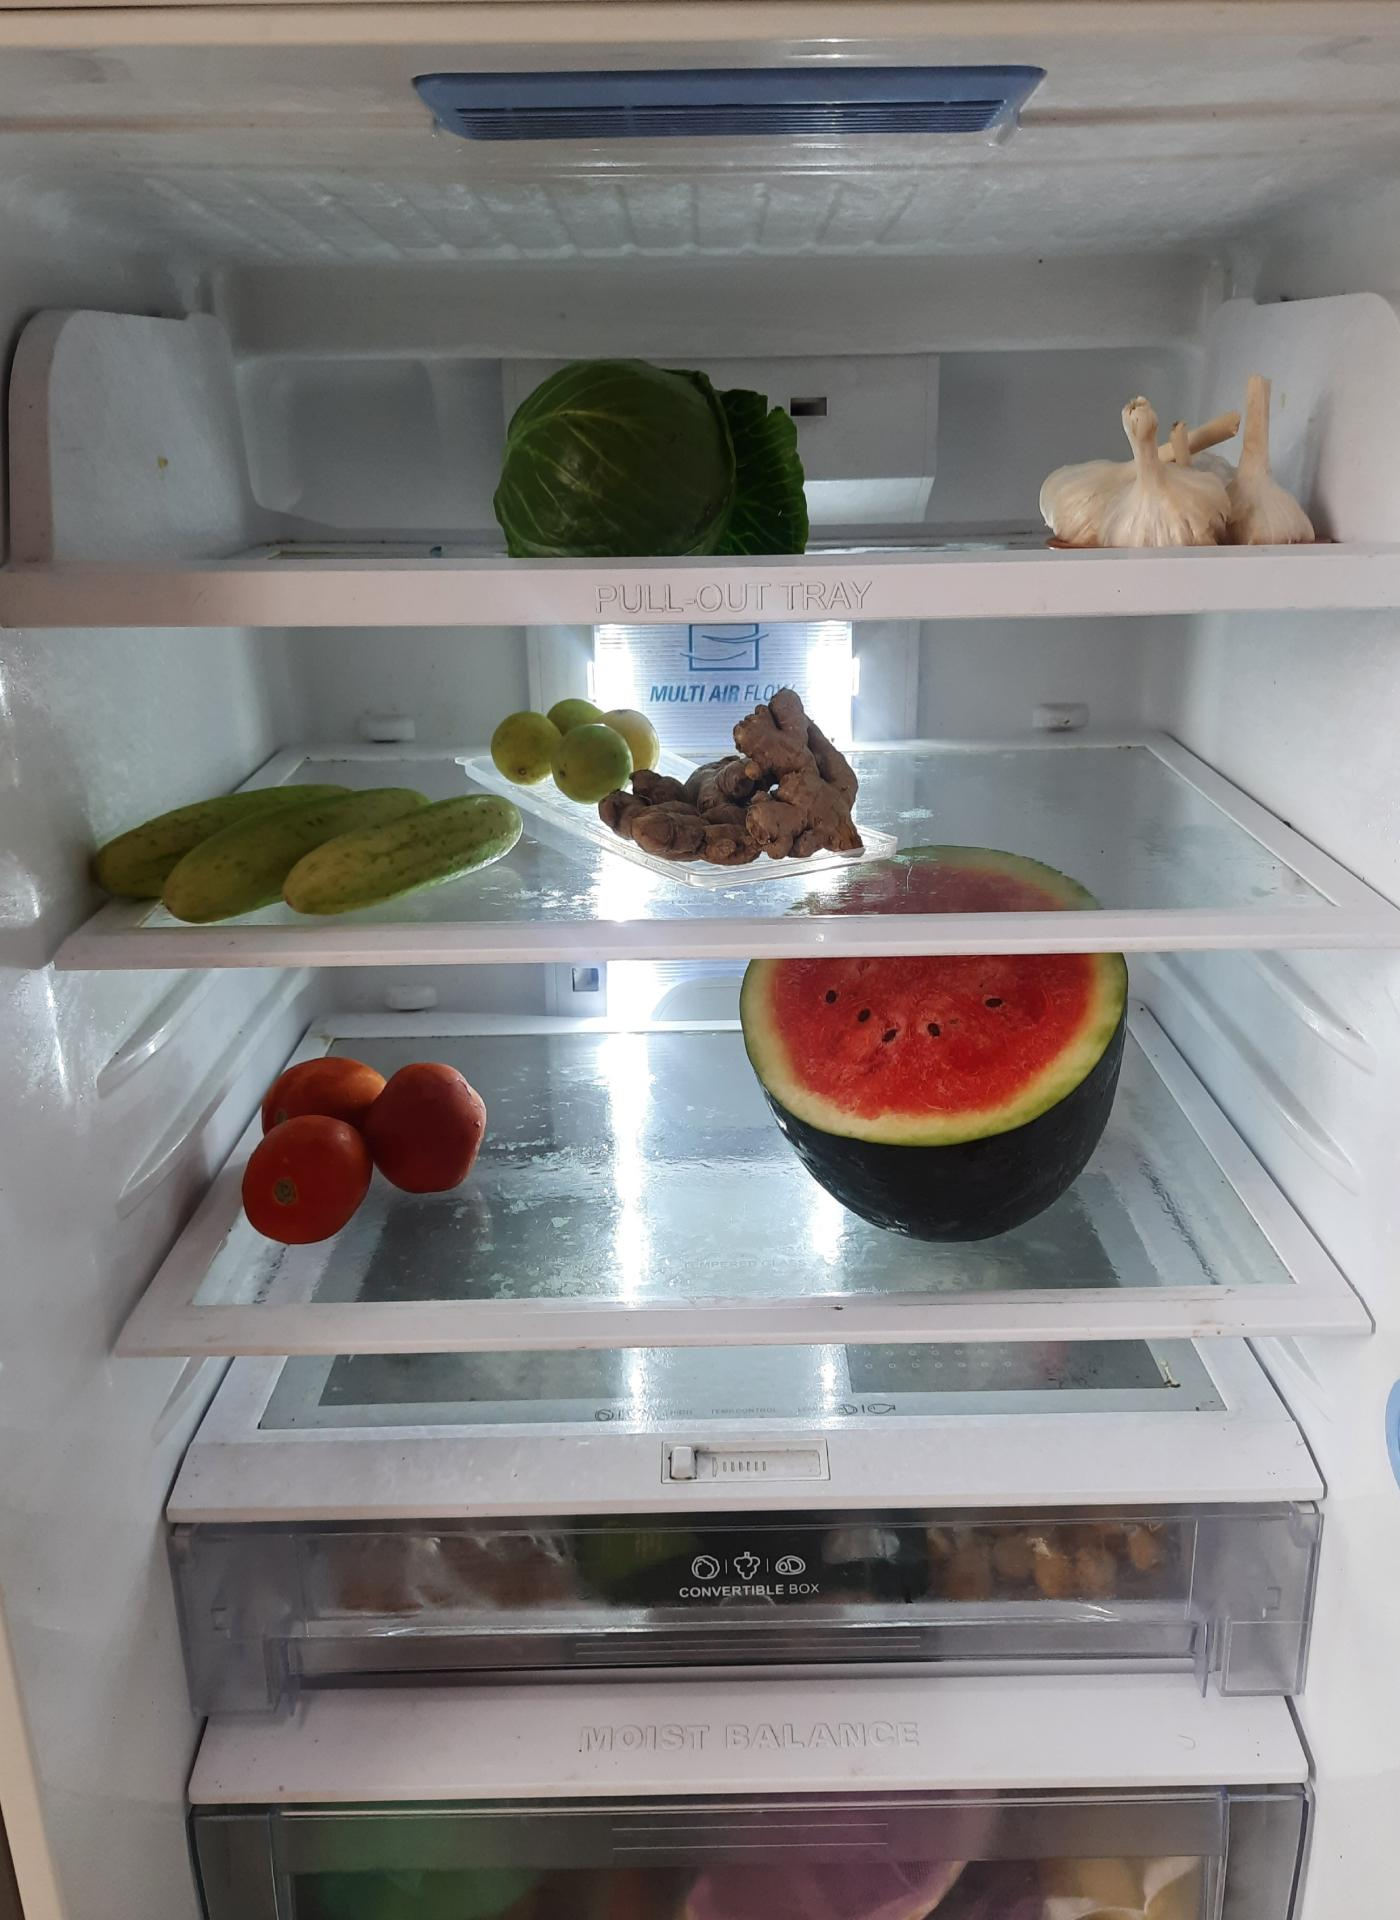cabbage: (495, 361, 810, 563)
cucumber: (88, 780, 525, 923)
garlic: (1042, 376, 1324, 544)
ginger: (611, 695, 874, 871)
lemon: (496, 690, 666, 792)
tomato: (245, 1051, 488, 1240)
watermelon: (734, 856, 1133, 1243)
